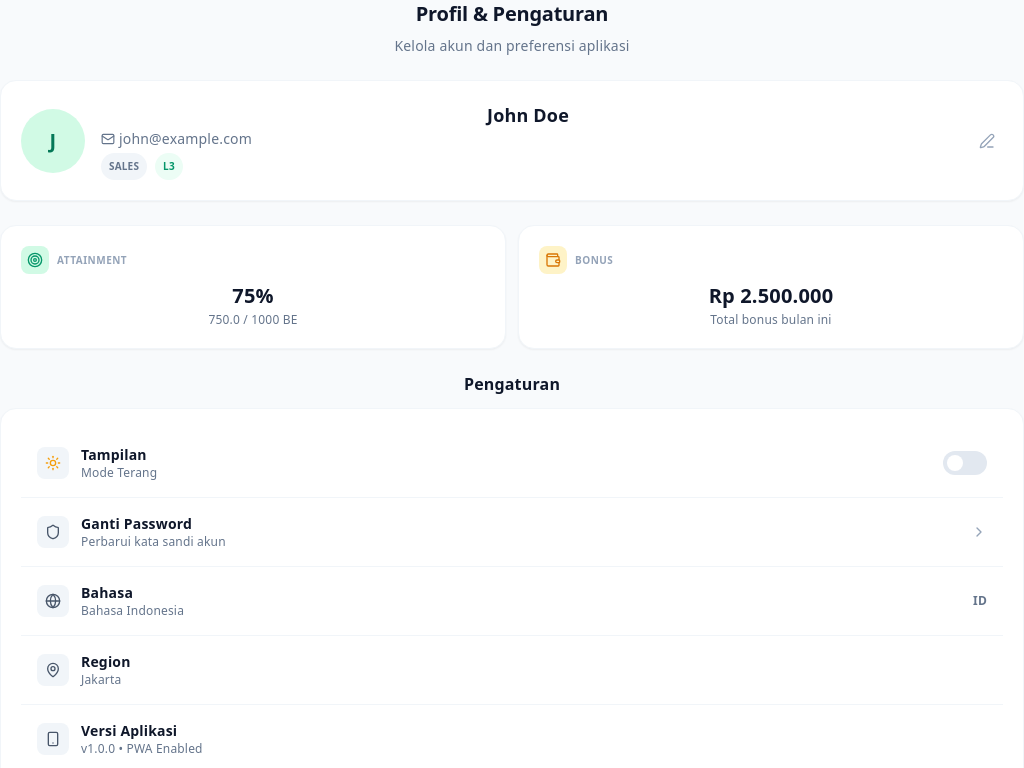
it: ProfileView › ✅ Change Password › opens password change modal
Check: the heading "John Doe" is shown, box [487,103,569,127]
Click the text "Ganti Password" at coordinates (137, 524), box [81,514,192,533]
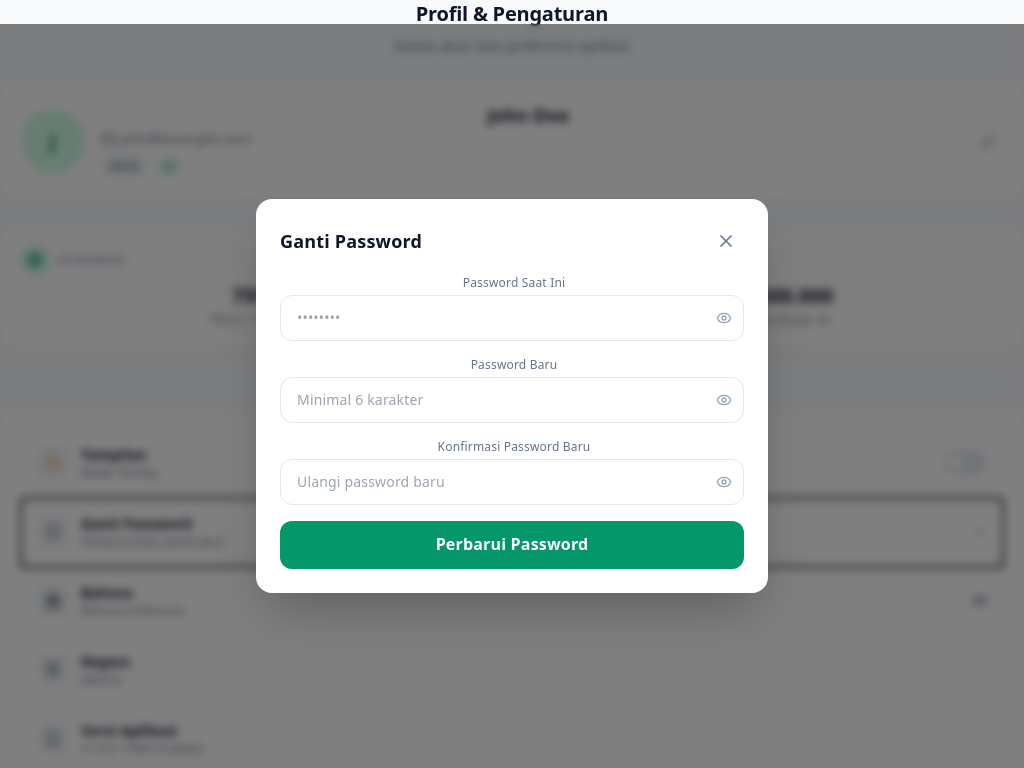
Check: the text "Password Saat Ini" is shown, box [463,274,565,291]
Check: the text "Password Baru" is shown, box [471,356,557,373]
Check: the text "Konfirmasi Password Baru" is shown, box [438,438,590,455]
